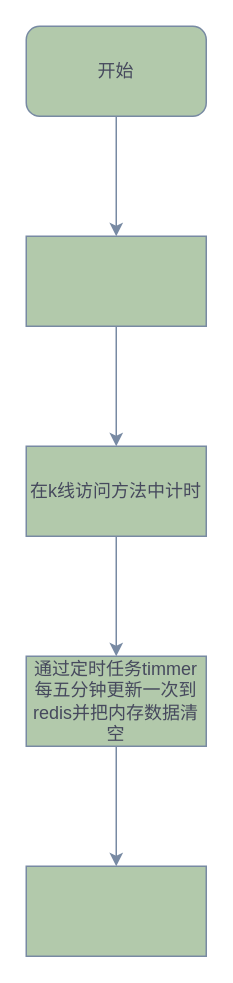
Image size: 233x983. Some labels were removed from this diagram. The centre of each missing label's shape, as x and y in pixels:
"通过分布式调度、每一个小时统计redis中数据发送到slack" belongs at (115,910).
"项目启动时初始化 MultiSet" belongs at (115,280).
